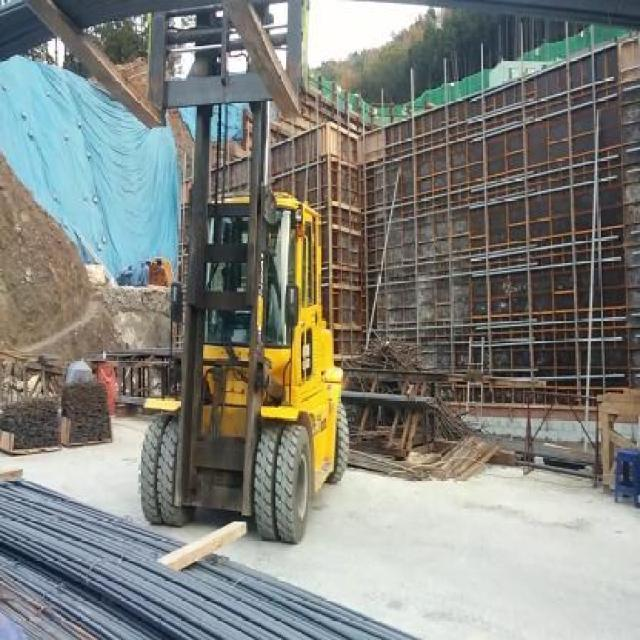forklift: (142, 197, 350, 542)
